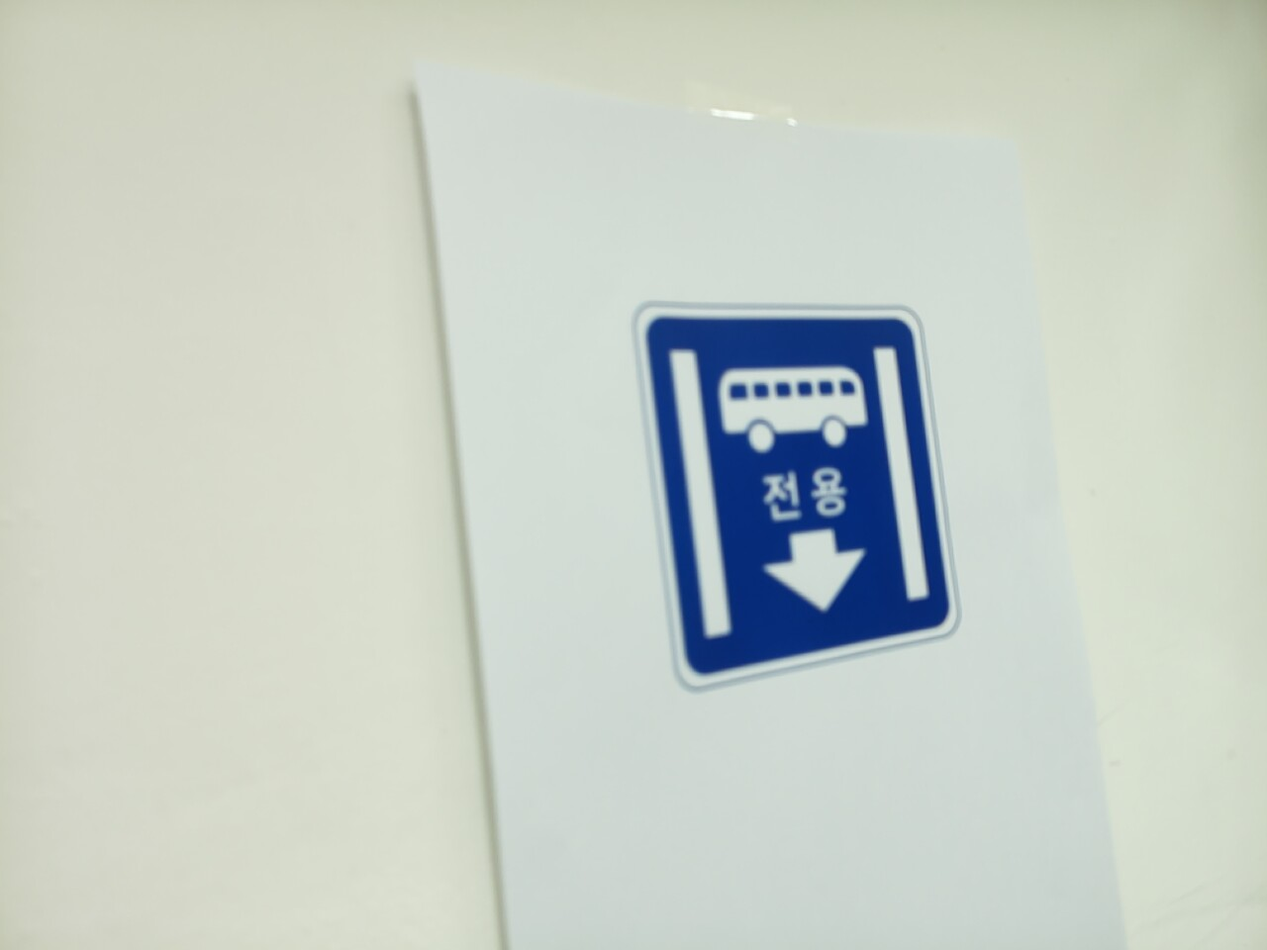bus_only_lane: (635, 306, 959, 686)
